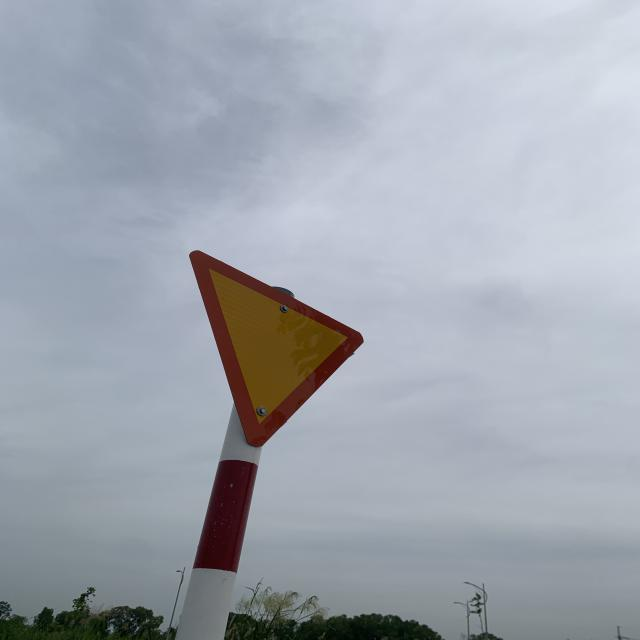Gioi_Han_Toc_Do_25: (189, 250, 366, 446)
